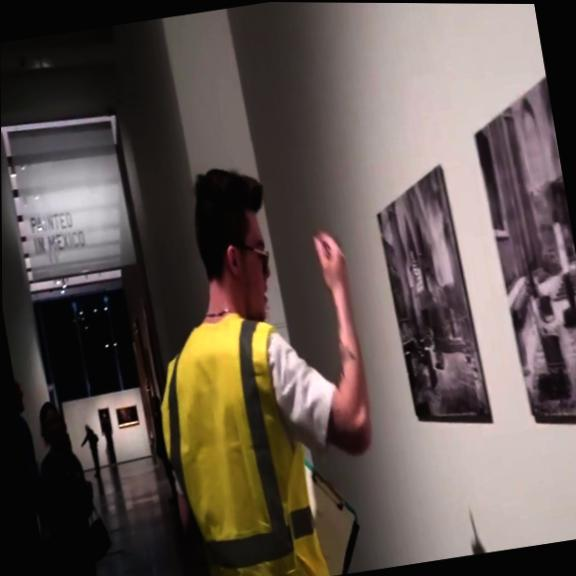safety_vest: (141, 306, 333, 576)
